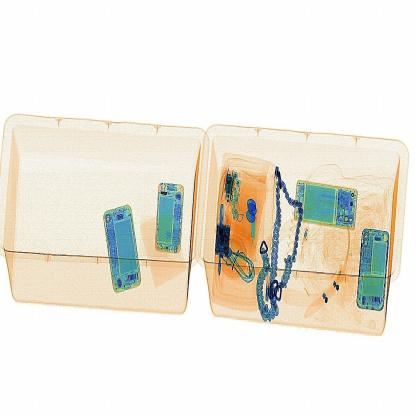pliers: (244, 192, 260, 273)
